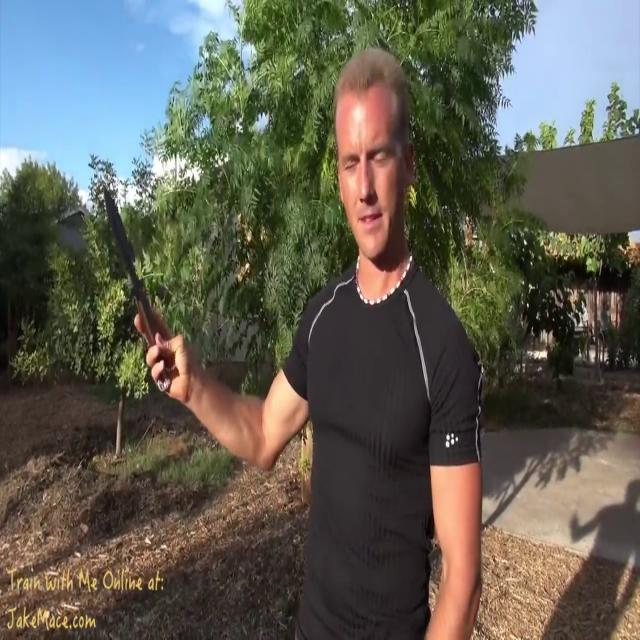knife: (92, 180, 173, 392)
